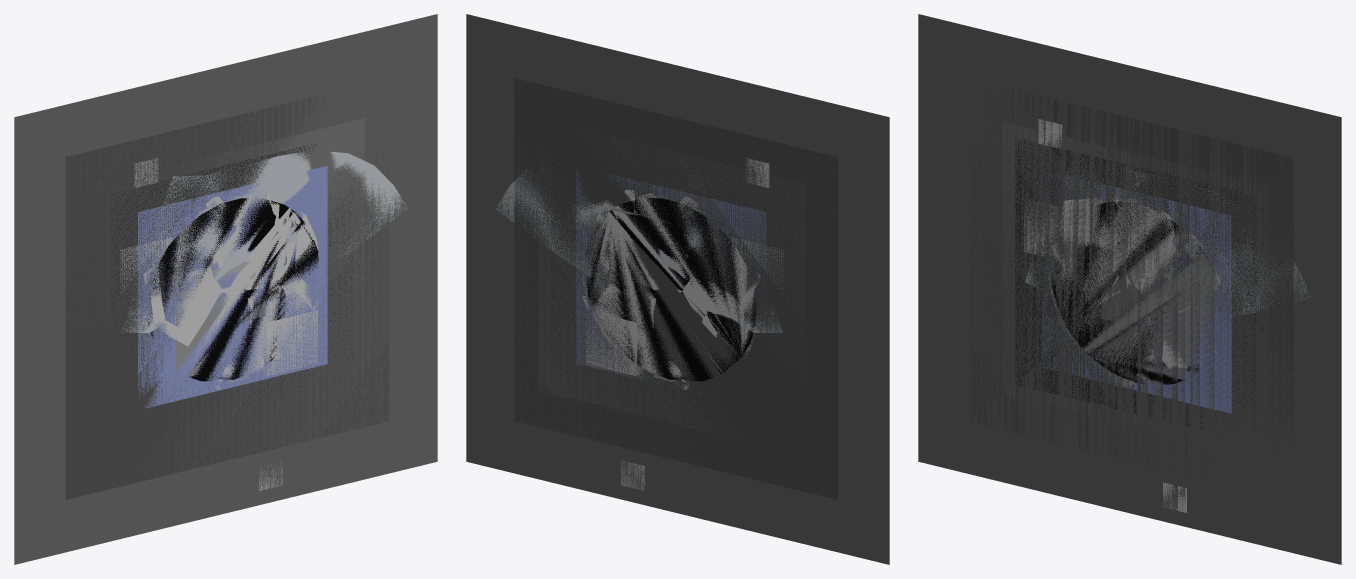
Rendered from Skeleton Prefab Mesh _Eb_Wisp_05_.glb.
The picture shows the model from 3 angles, left to right: view 1: azimuth 30°, elevation 25°; view 2: azimuth 150°, elevation 25°; view 3: azimuth 330°, elevation 25°; orthographic projection.
Parts seen in each view (by area): view 1: Skeleton Prefab Mesh "Eb_Wisp_05"; view 2: Skeleton Prefab Mesh "Eb_Wisp_05"; view 3: Skeleton Prefab Mesh "Eb_Wisp_05".
Boxes of the visible parts, x1=… form: Skeleton Prefab Mesh "Eb_Wisp_05": x1=14, y1=14, x2=437, y2=564; Skeleton Prefab Mesh "Eb_Wisp_05": x1=466, y1=14, x2=889, y2=564; Skeleton Prefab Mesh "Eb_Wisp_05": x1=918, y1=14, x2=1341, y2=564.
Size of the model in its own units: 4.05 by 4.09 by 0.
